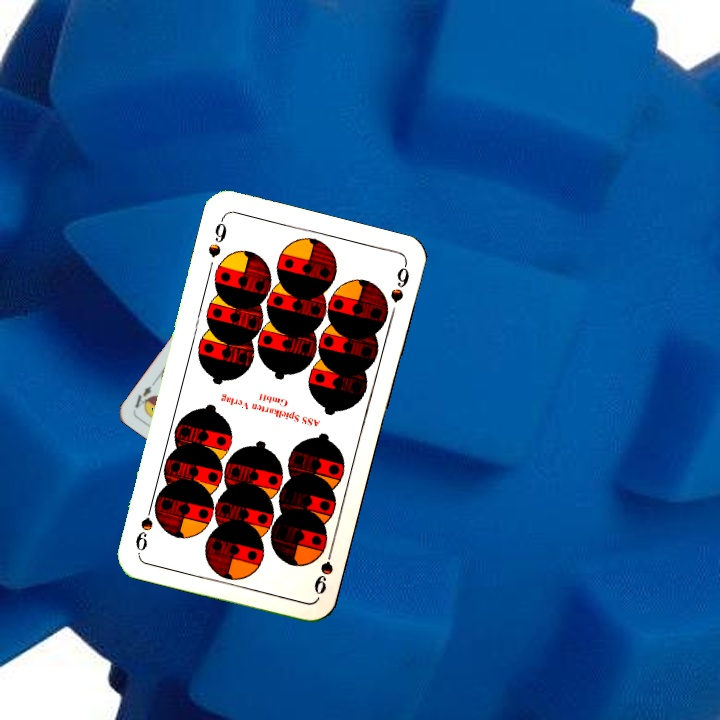S9: (310, 540, 336, 598), (204, 213, 230, 260)
